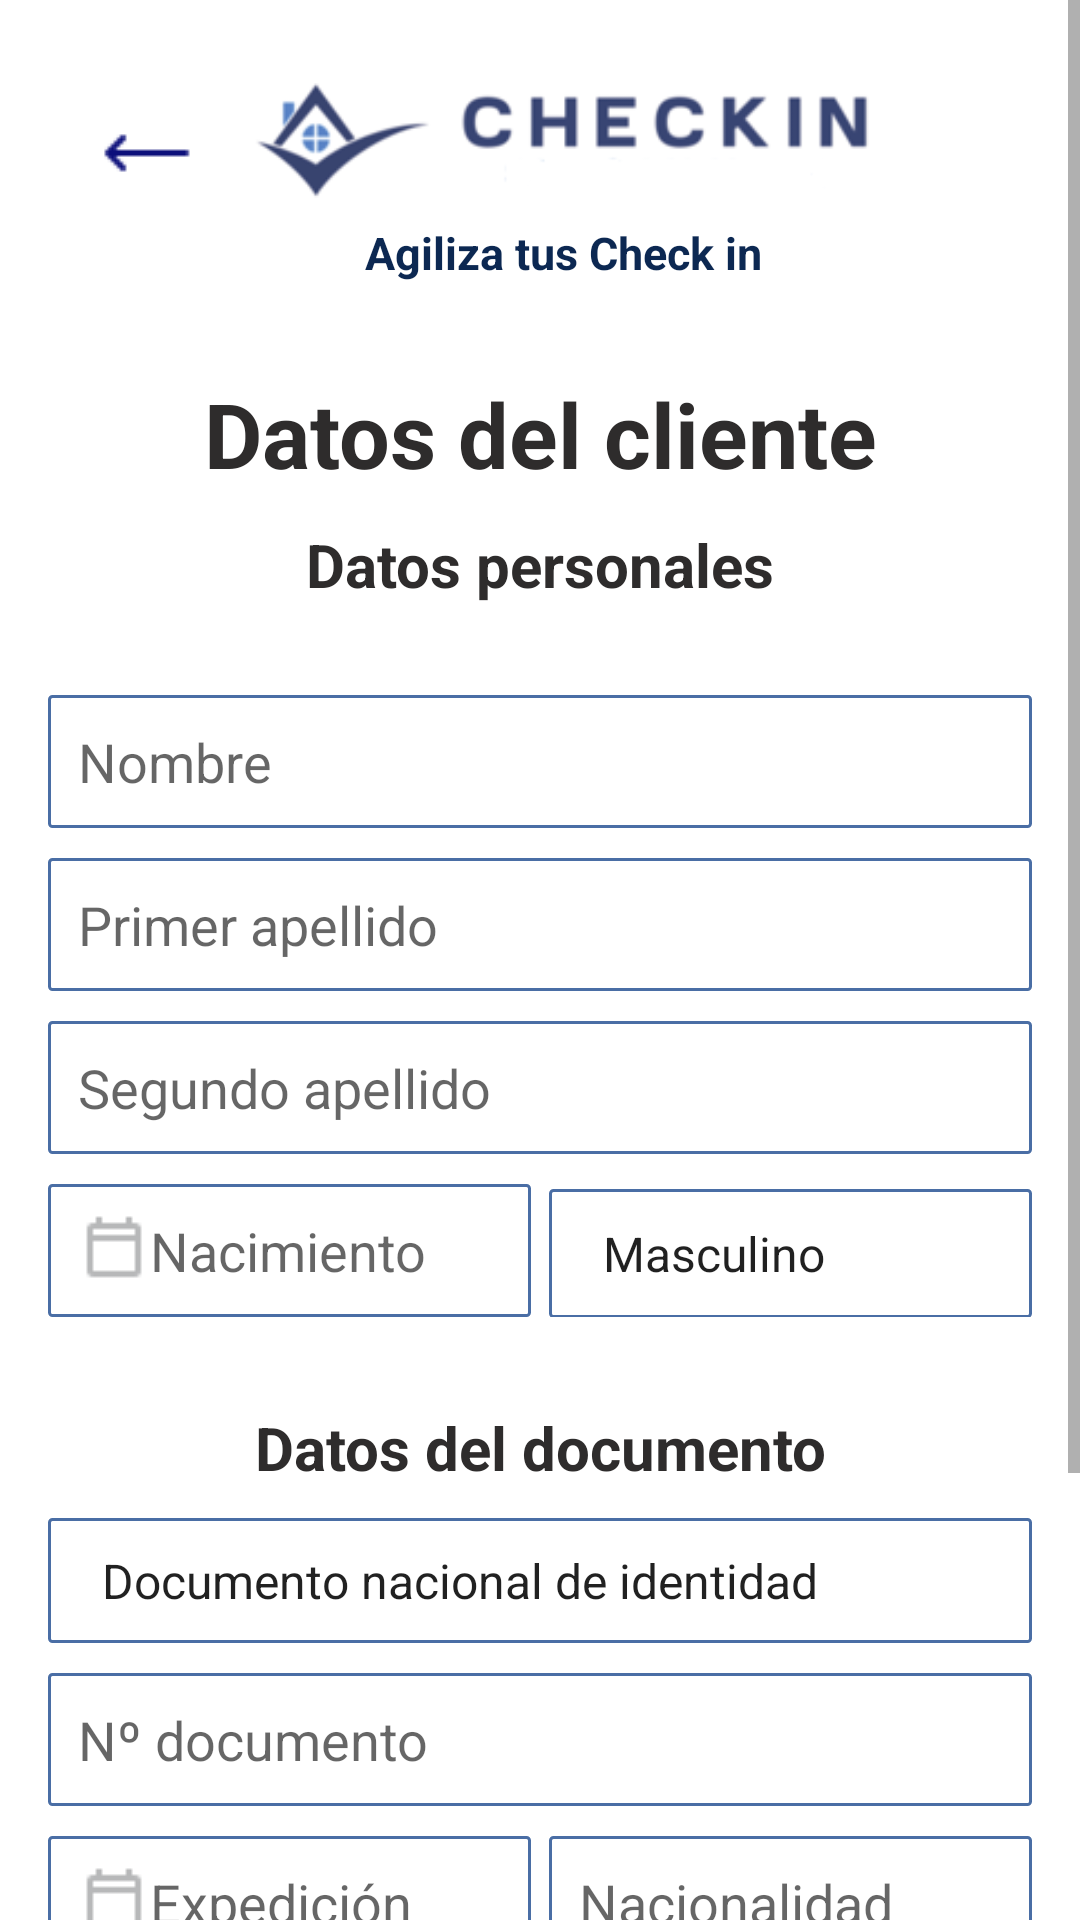

Point at icon controls on the screen. Image size 1080w x 1920h, points as (x=x, y=y).
atras: (x=147, y=153)
